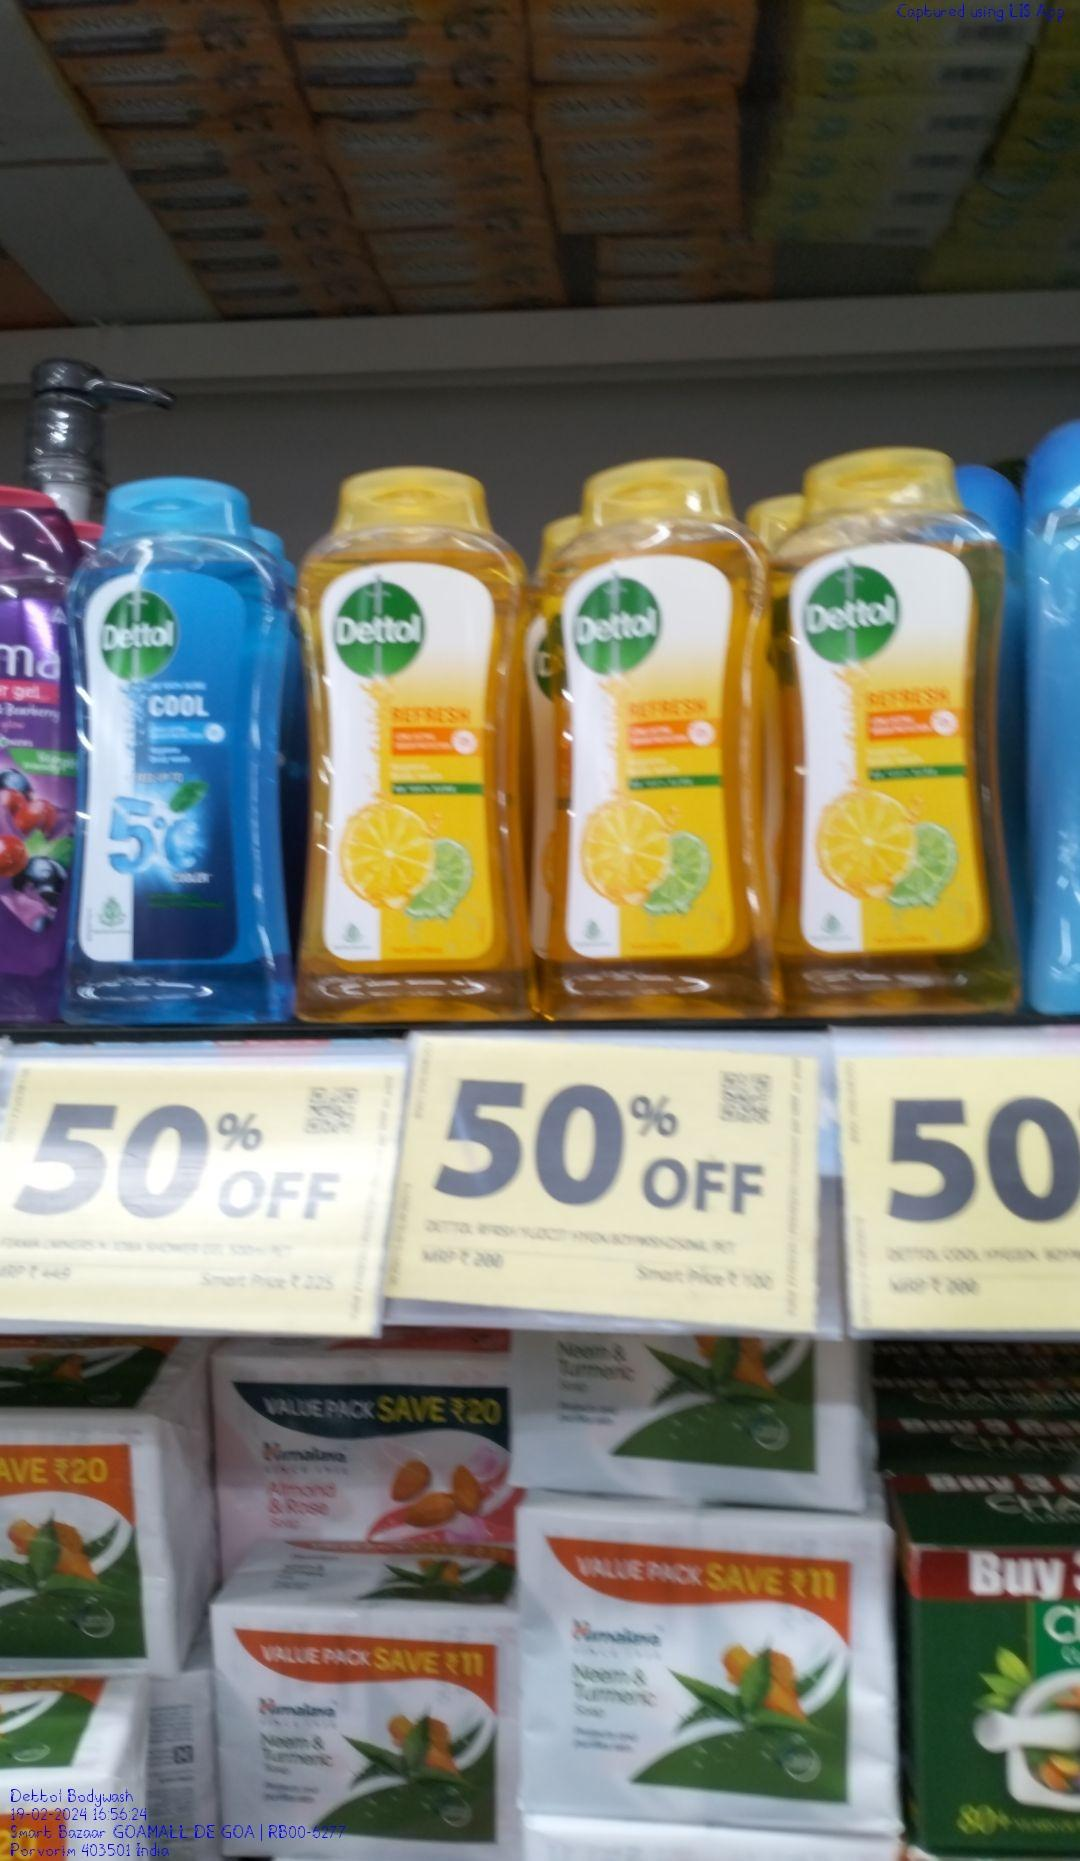Dettol_Bodywash_Cool: (58, 472, 289, 1018)
Dettol_Bodywash_Refresh: (771, 443, 1022, 1019), (289, 456, 537, 1015), (535, 445, 774, 1019)
